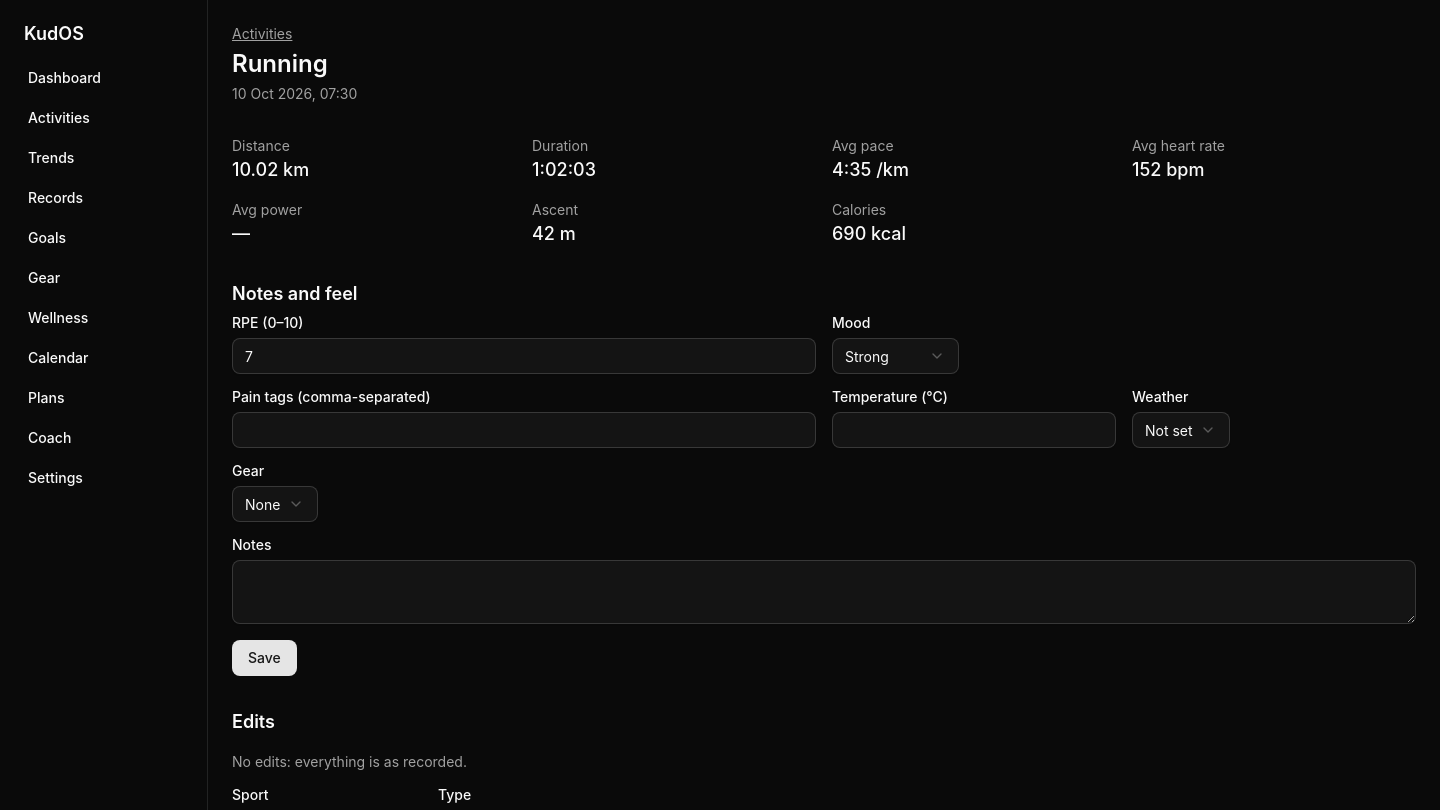
Test: ActivityDetailPage › notes and feel › rejects Temperature (°C) warm before saving
Type "warm" into the field labelled "Temperature (°C)" at [974, 430], box [832,412,1116,448]
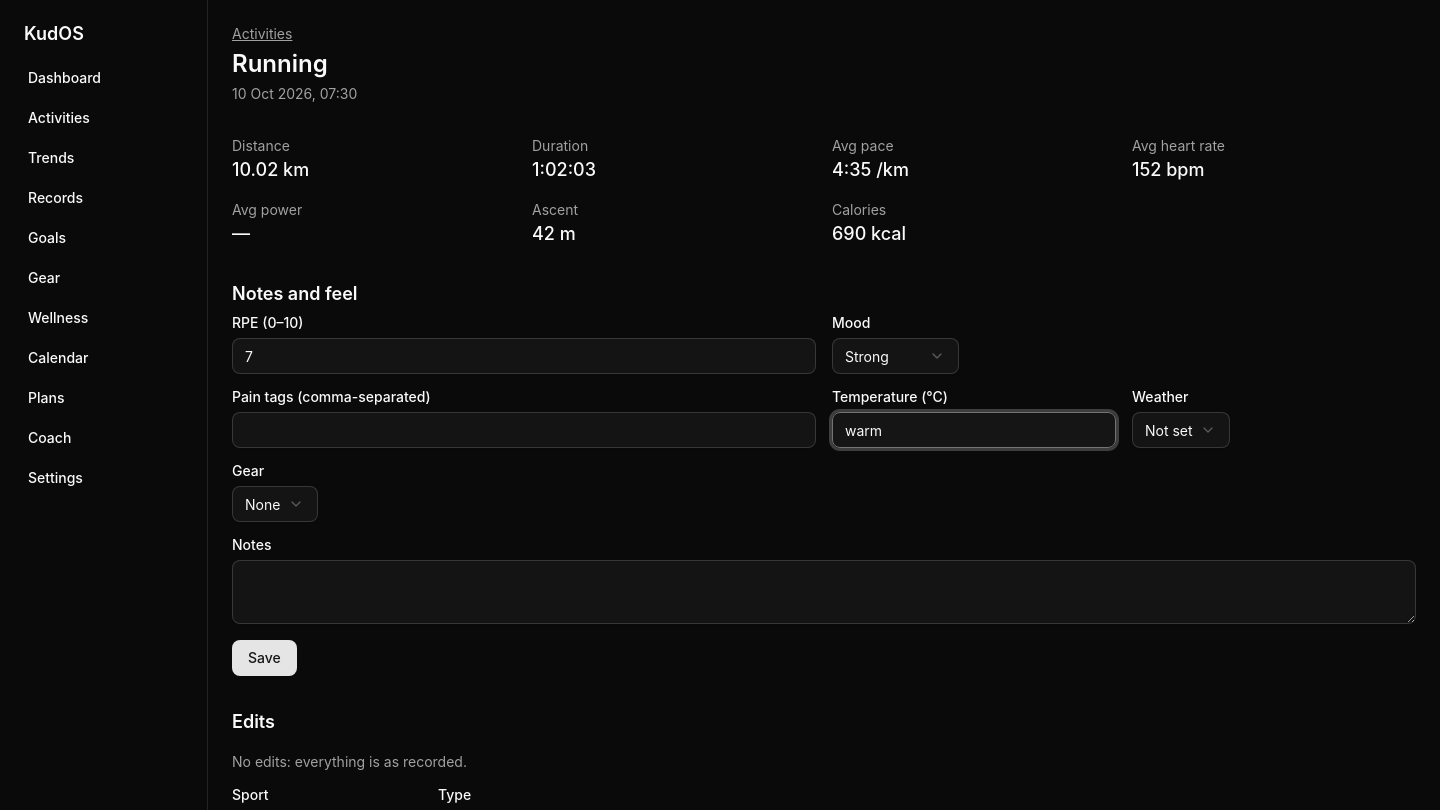
Click the button "Save" at [264, 658], box [232,640,297,676]
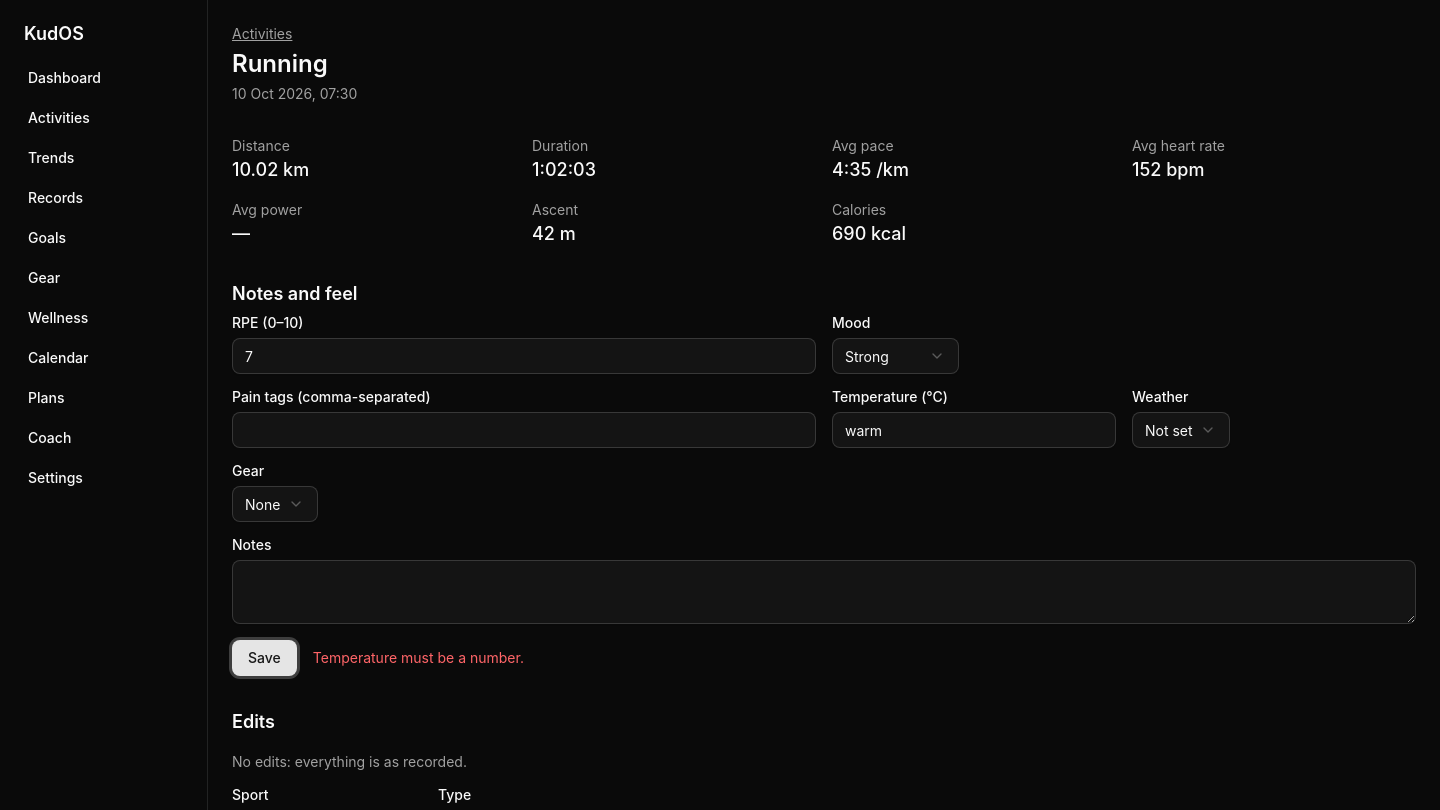
Check: the message reads "Temperature must be a number.", box [313,649,524,666]
